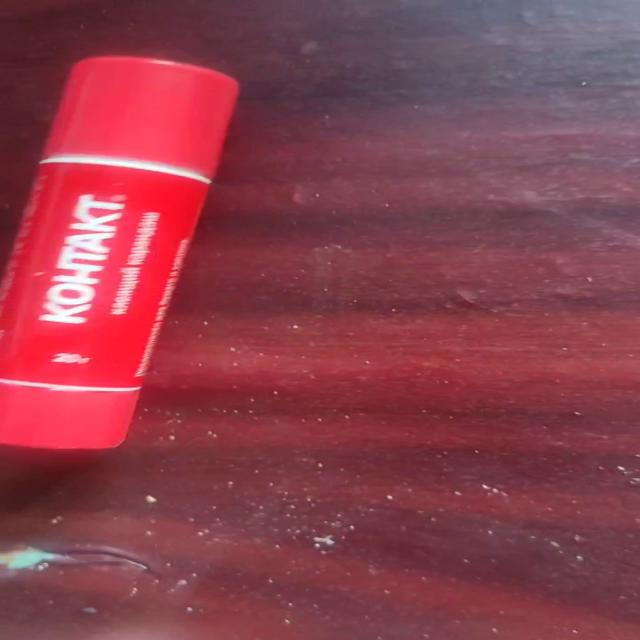glue: (1, 54, 240, 450)
